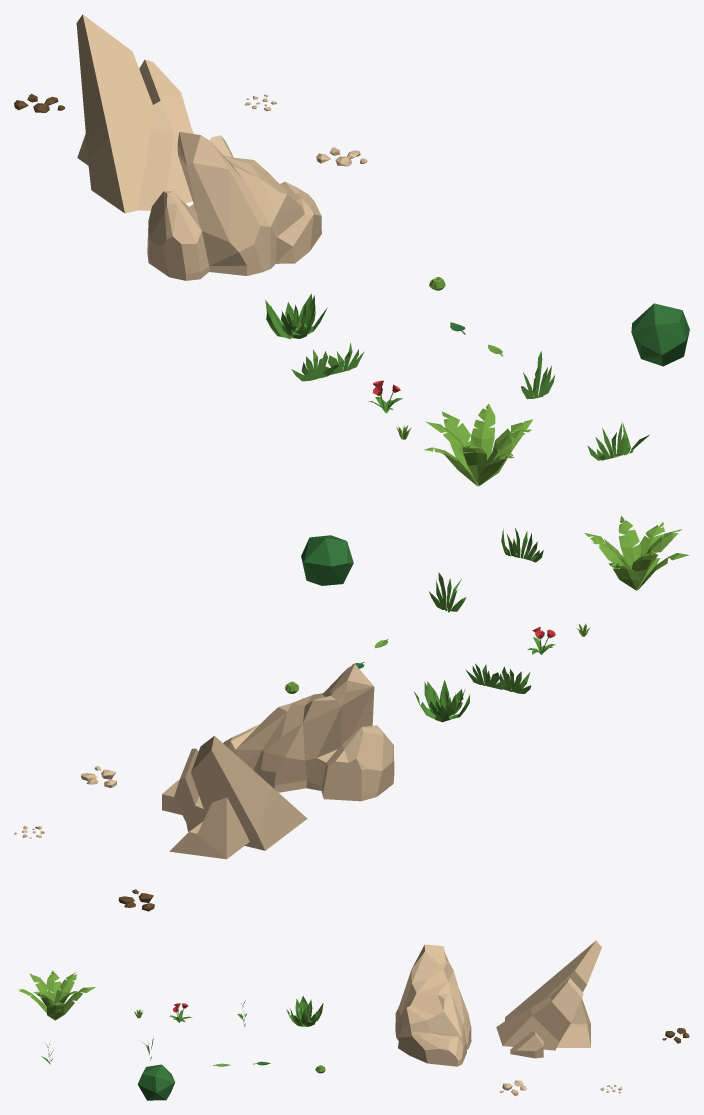
File: boulder1.glb
3 views of the same model, one above another, from view 1: azimuth 30°, elevation 25°; view 2: azimuth 150°, elevation 25°; view 3: azimuth 270°, elevation 25° (orthographic). The views are drawn at different scales.
Parts seen in each view (by area): view 1: rock-large, rock-sharp, palm-bush-big, shrub, plant-bush-small, grass-long, grass, grass-basic; view 2: rock-large, rock-sharp, palm-bush-big, shrub, plant-bush-small, grass-long, grass, grass-basic; view 3: rock-large, rock-sharp, palm-bush-big, shrub, plant-bush-small.
Boxes of the visible parts, x1=… form: rock-large: x1=147, y1=132, x2=321, y2=280; rock-sharp: x1=76, y1=14, x2=233, y2=213; palm-bush-big: x1=424, y1=404, x2=532, y2=486; shrub: x1=631, y1=303, x2=689, y2=366; plant-bush-small: x1=265, y1=293, x2=327, y2=339; grass-long: x1=291, y1=342, x2=364, y2=381; grass: x1=587, y1=422, x2=649, y2=460; grass-basic: x1=521, y1=351, x2=555, y2=399; rock-large: x1=223, y1=664, x2=394, y2=801; rock-sharp: x1=162, y1=736, x2=307, y2=859; palm-bush-big: x1=584, y1=516, x2=689, y2=590; shrub: x1=301, y1=535, x2=353, y2=585; plant-bush-small: x1=414, y1=680, x2=470, y2=722; grass-long: x1=465, y1=663, x2=531, y2=693; grass: x1=501, y1=528, x2=543, y2=562; grass-basic: x1=429, y1=572, x2=466, y2=612; rock-large: x1=395, y1=944, x2=471, y2=1066; rock-sharp: x1=496, y1=940, x2=601, y2=1058; palm-bush-big: x1=18, y1=970, x2=95, y2=1020; shrub: x1=137, y1=1064, x2=175, y2=1100; plant-bush-small: x1=286, y1=996, x2=323, y2=1026.
Size of the model in its own units: 9.54 by 3.81 by 25.54.
